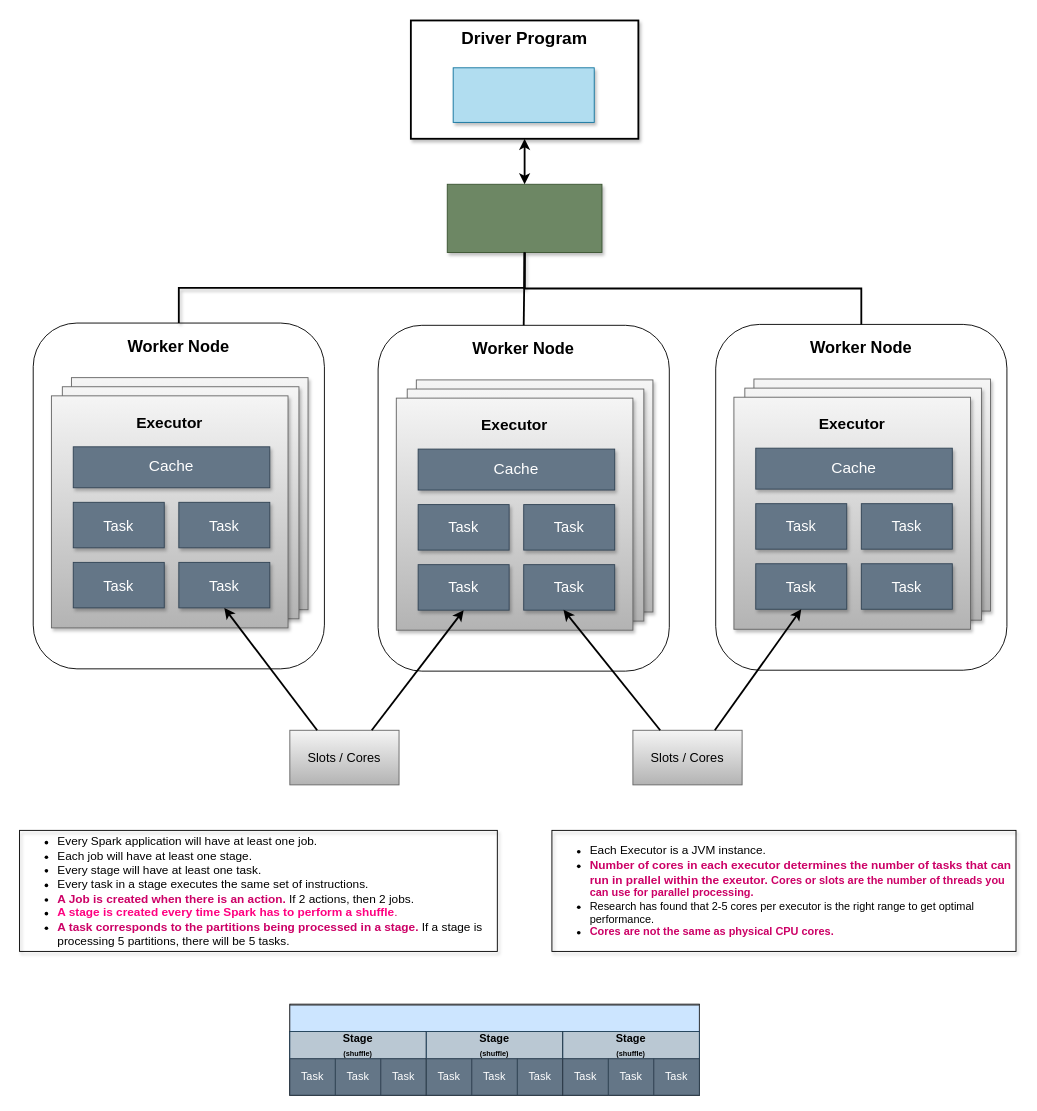
This 1037x1111 diagram has some shape labels left out. Here are the shapes that lost their labels. From the top down, the centre of each, then its label:
At (x=524, y=96): "Spark Context".
At (x=525, y=219): "Cluster Manager".
At (x=494, y=1018): "Job (action)".
